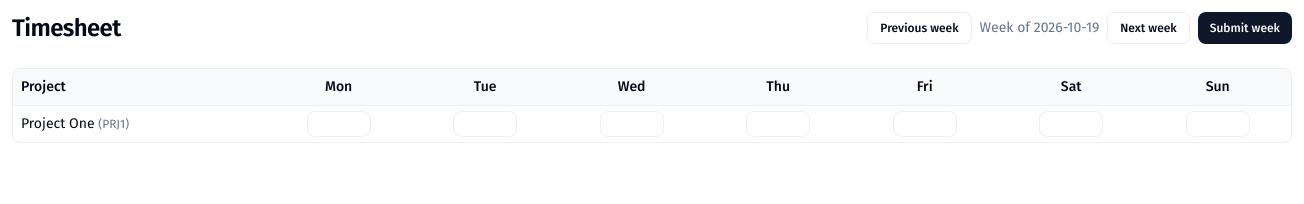
it: EntriesPage › enables Submit only once a draft entry exists, and submits the week
Click the button with test id "timesheet-submit-week".
click(1245, 28)  # box [1198,12,1292,44]
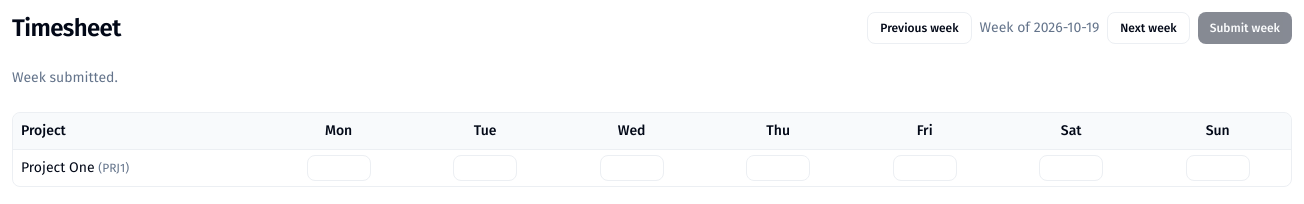
Check: the text "Week submitted." is shown, box [12,69,118,86]
